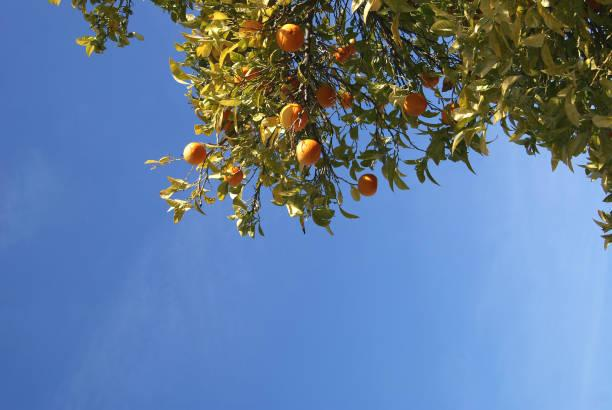orange: (272, 21, 313, 60), (287, 135, 334, 169), (272, 96, 315, 128), (350, 164, 382, 206)
